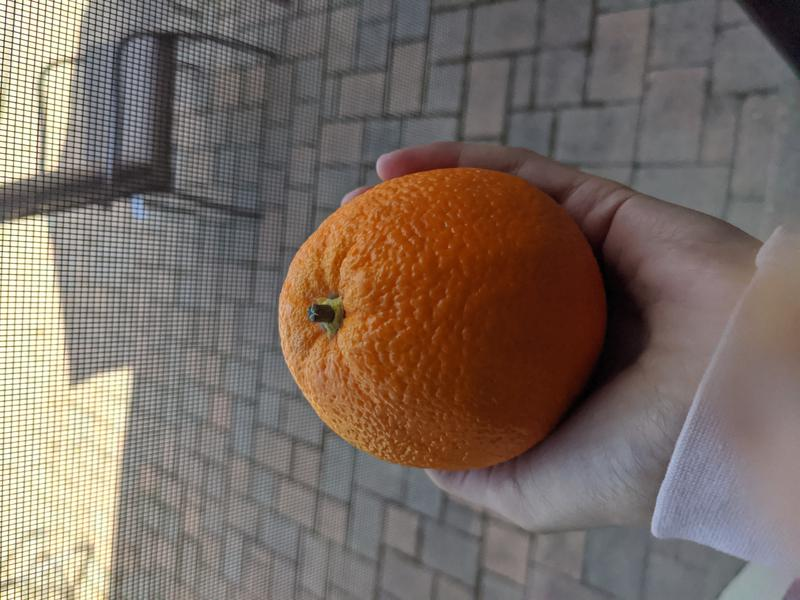orange: (276, 165, 608, 471)
